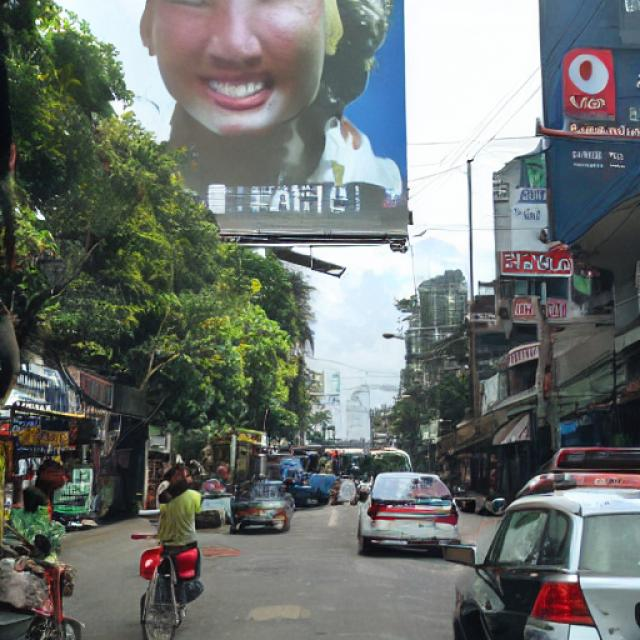Billboard: (61, 0, 411, 242)
